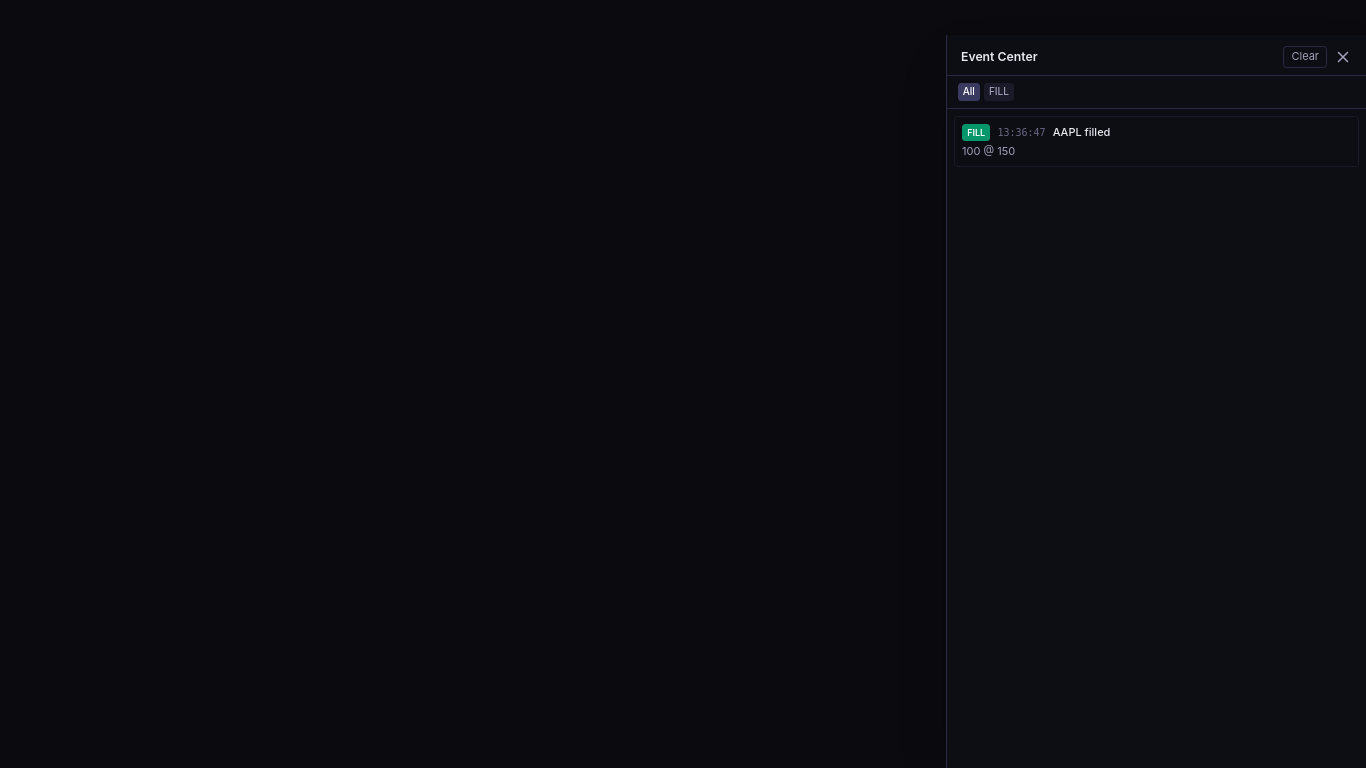
Test case: EventCenter (§20.2) › Clear empties the buffer
The width and height of the screenshot is (1366, 768).
Click the button "Clear". click: {"x": 1305, "y": 56}
box: 1284,46 -> 1327,68
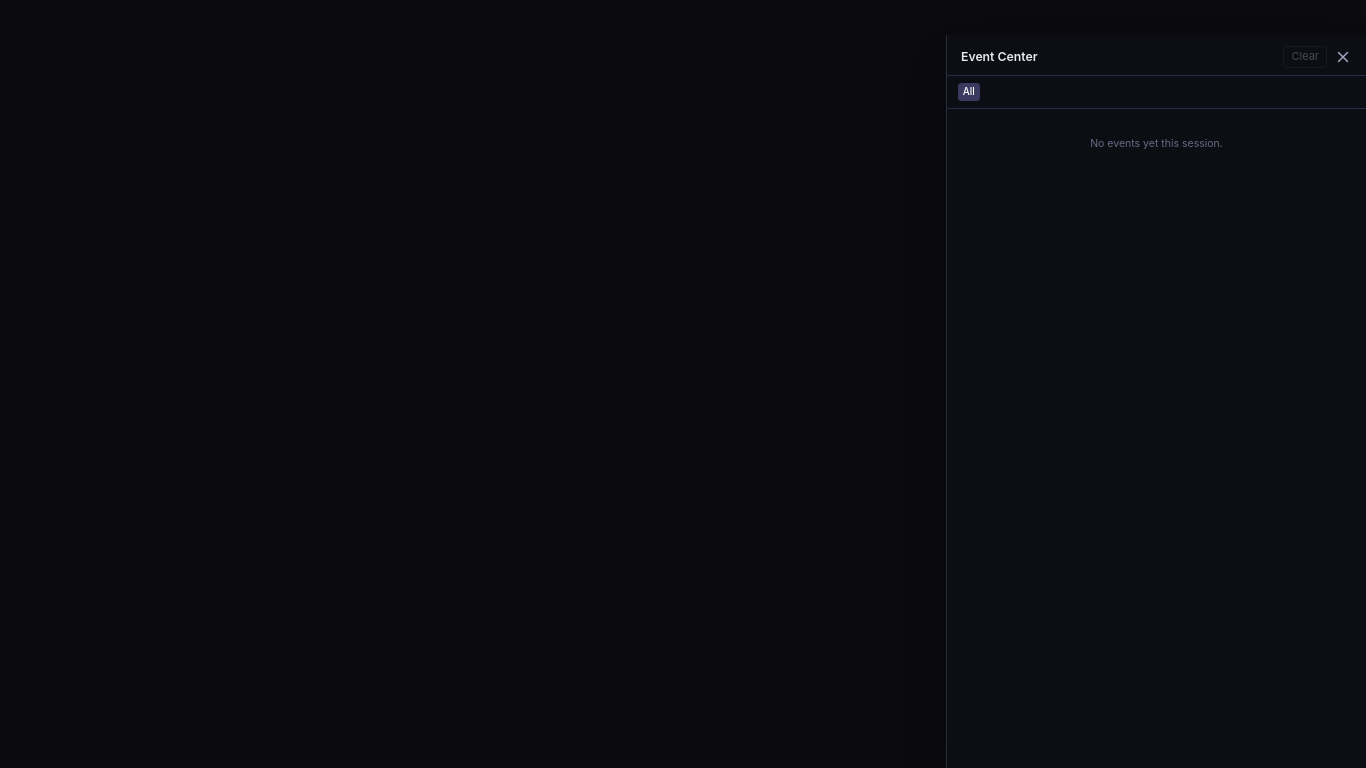
Now the text "No events yet this session." is shown, box 1090,137 -> 1223,150
